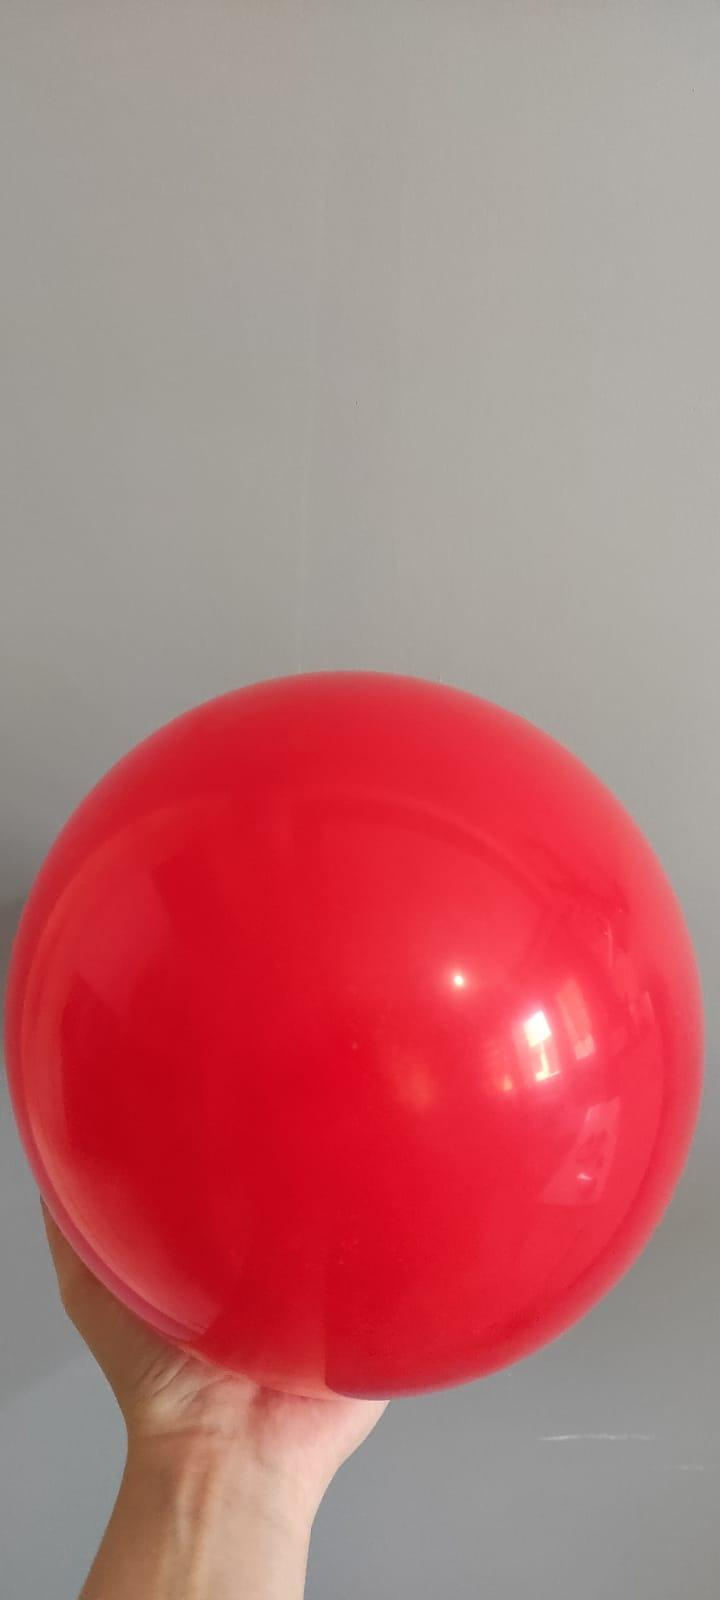red: (1, 660, 714, 1398)
